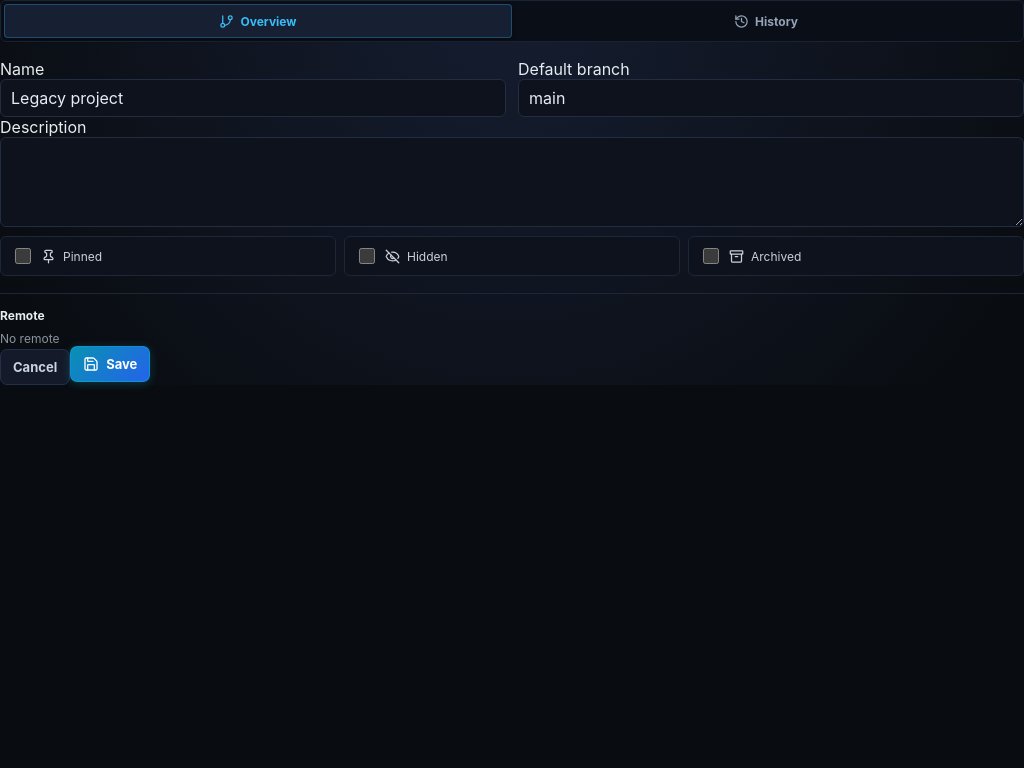
Test: renders legacy null project collections as empty states
expect the text "No remote" is shown: met, box [0, 331, 59, 346]
What coordinates should you click on to do the following:
click the tab "History"
I would click on:
 (766, 21)
Its box is [512, 4, 1020, 38].
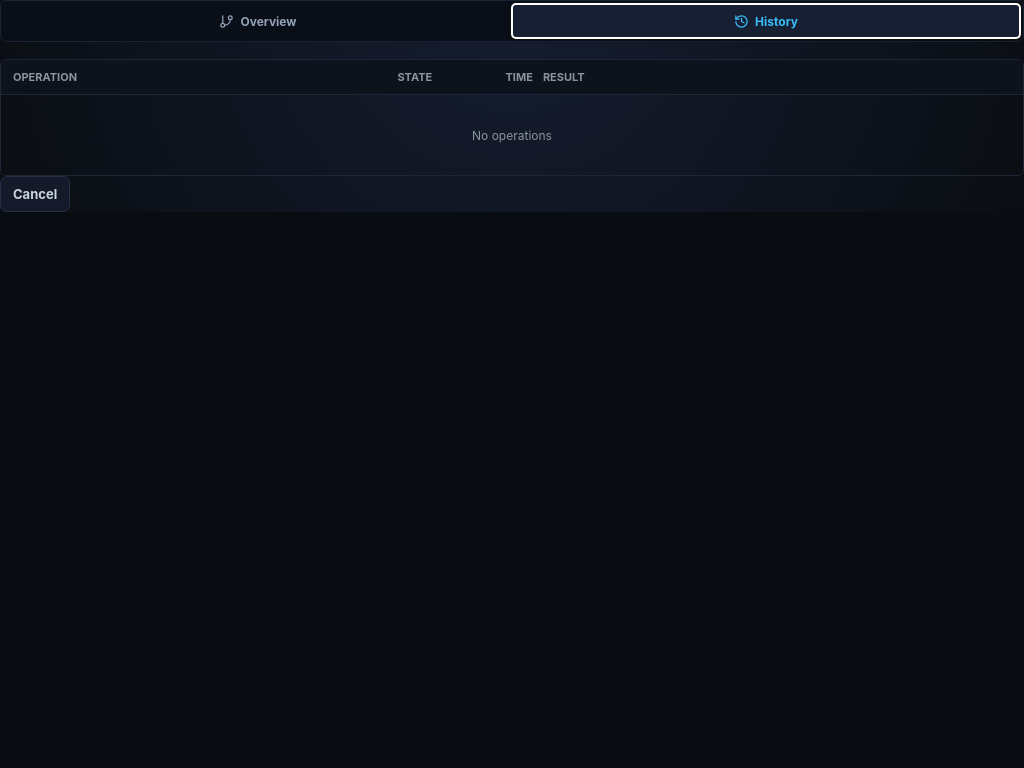
expect the text "No operations" is shown: met, box [472, 128, 552, 142]
